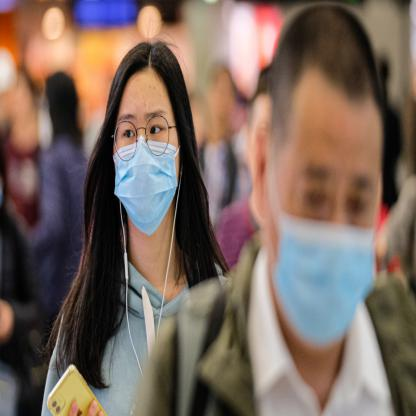Wearing_Mask: (265, 65, 379, 352), (106, 78, 184, 248)
